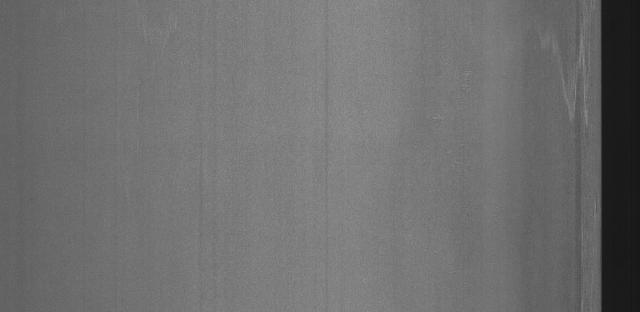silk_spot: (528, 25, 596, 148)
